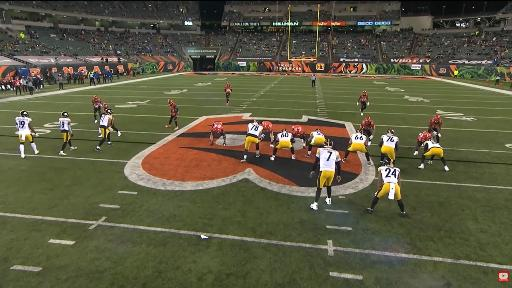Helmet: (420, 132, 431, 140), (383, 158, 393, 166), (324, 139, 333, 147), (20, 110, 29, 117), (365, 117, 371, 125), (429, 135, 435, 142), (387, 128, 394, 134), (434, 115, 440, 122), (62, 112, 68, 117), (106, 109, 112, 114), (356, 128, 362, 133), (168, 99, 173, 104), (434, 115, 440, 119), (365, 117, 371, 121), (282, 128, 287, 132), (254, 119, 259, 123), (103, 104, 108, 108), (316, 129, 320, 132), (227, 83, 230, 86), (94, 95, 97, 98), (363, 90, 366, 93), (215, 128, 218, 131)
Jersey: (316, 148, 340, 171), (378, 167, 400, 183), (16, 117, 31, 134), (248, 123, 262, 137), (382, 135, 398, 147), (100, 114, 112, 127), (59, 118, 70, 131), (425, 141, 442, 149), (351, 134, 366, 143), (417, 132, 430, 142), (292, 126, 305, 136), (361, 120, 374, 130), (277, 132, 291, 141), (212, 122, 223, 133), (430, 118, 442, 127), (262, 121, 272, 131), (170, 104, 178, 116), (311, 131, 324, 138), (92, 98, 101, 107), (360, 94, 367, 101), (14, 80, 20, 87), (103, 105, 108, 113), (225, 87, 231, 93)
Player: (367, 159, 406, 216), (310, 139, 340, 210), (16, 111, 39, 158), (342, 129, 371, 166), (419, 137, 449, 171), (241, 120, 262, 162), (59, 112, 77, 155), (271, 129, 295, 160), (96, 109, 113, 151), (379, 129, 398, 162), (306, 129, 325, 157), (413, 131, 431, 155), (360, 117, 375, 145), (428, 115, 442, 142), (210, 122, 226, 145), (260, 121, 274, 147), (166, 99, 178, 129), (357, 91, 369, 115), (292, 125, 305, 147), (92, 95, 102, 122), (112, 116, 120, 136), (112, 118, 120, 136), (13, 77, 21, 95), (225, 83, 231, 105), (102, 104, 109, 113)
